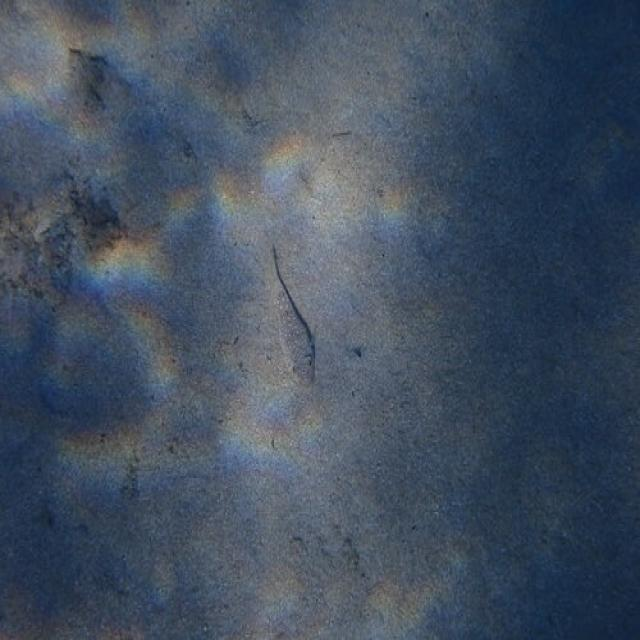Balik: (273, 248, 314, 385)
